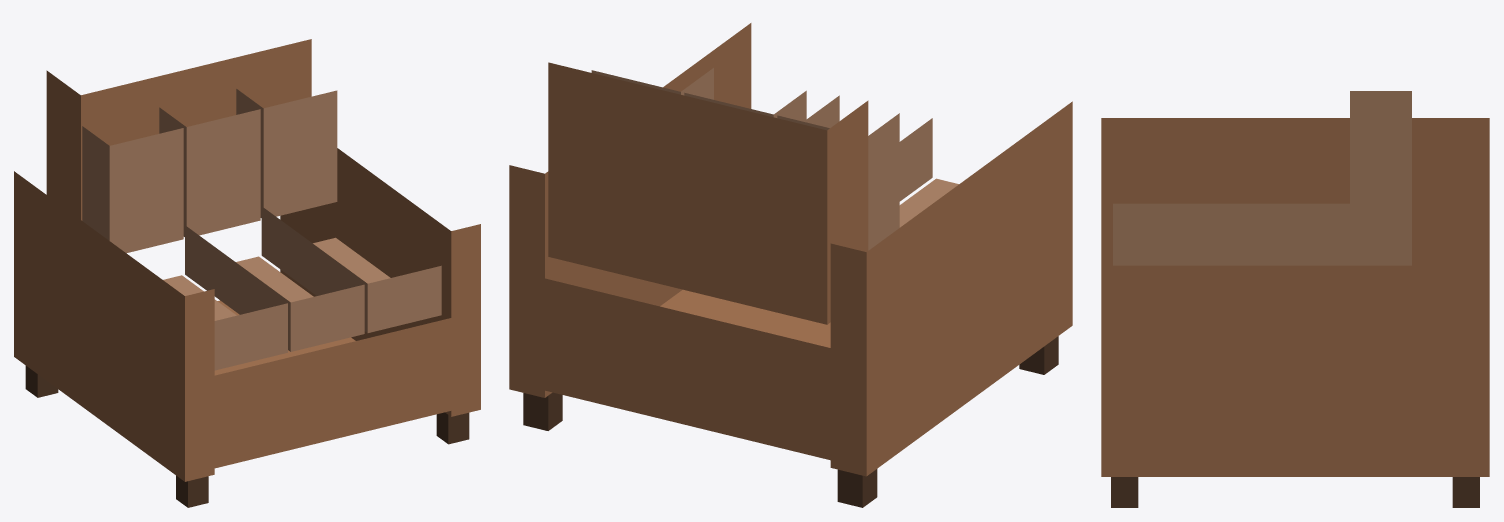
File: Sofa-teak.glb
The picture shows the model from 3 angles, left to right: view 1: azimuth 30°, elevation 25°; view 2: azimuth 150°, elevation 25°; view 3: azimuth 270°, elevation 25°; orthographic projection. The views are drawn at different scales.
Parts seen in each view (by area): view 1: Sofa; view 2: Sofa; view 3: Sofa.
Boxes of the visible parts, bbox=[...] form: Sofa: bbox=[14, 39, 480, 507]; Sofa: bbox=[509, 23, 1072, 507]; Sofa: bbox=[1101, 91, 1489, 507].
Bounding box in the file's own units: 1 × 1 × 1.
